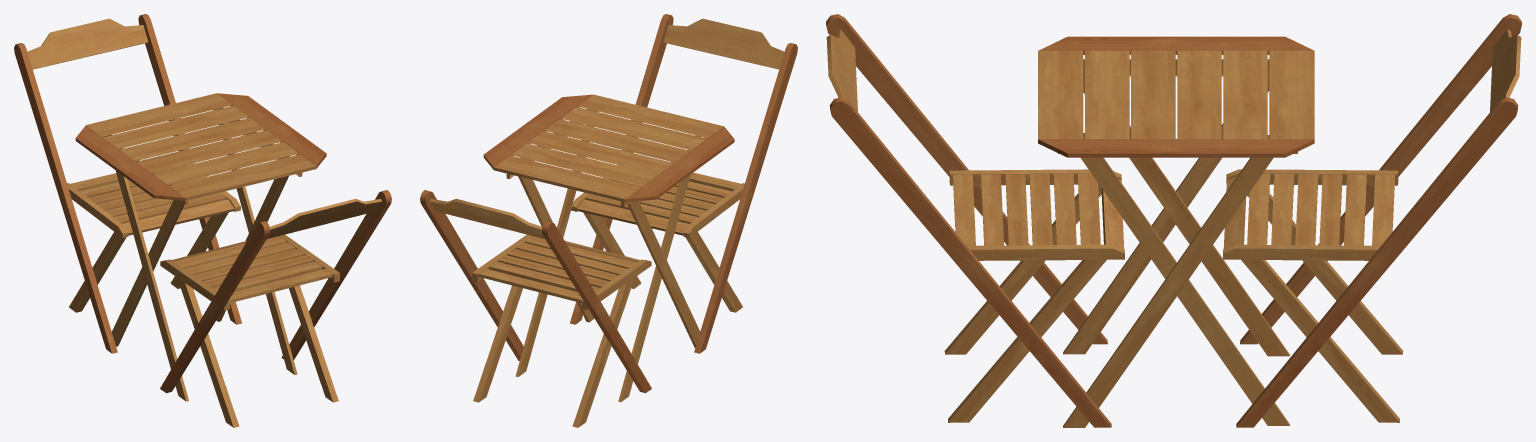
File: Mesa com Cadeiras.FBX
3 renders of one model, left to right at view 1: azimuth 30°, elevation 25°; view 2: azimuth 150°, elevation 25°; view 3: azimuth 270°, elevation 25°, orthographic. The views are drawn at different scales.
Parts seen in each view (by area): view 1: Mesa Pe, Cadeira Poltrona001, Cadeira Poltrona, Cadeira Lateral, Cadeira Lateral001, Mesa Lateral; view 2: Mesa Pe, Cadeira Poltrona, Cadeira Poltrona001, Cadeira Lateral001, Cadeira Lateral, Mesa Lateral; view 3: Mesa Pe, Cadeira Poltrona001, Cadeira Poltrona, Cadeira Lateral001, Cadeira Lateral, Mesa Lateral.
Boxes of the visible parts, box(x1,y1,x2,y2) form: Mesa Pe: box(86, 93, 316, 401); Cadeira Poltrona001: box(160, 198, 381, 427); Cadeira Poltrona: box(27, 18, 240, 312); Cadeira Lateral: box(14, 14, 242, 353); Cadeira Lateral001: box(160, 190, 391, 393); Mesa Lateral: box(75, 93, 326, 200); Mesa Pe: box(494, 94, 723, 402); Cadeira Poltrona: box(430, 198, 651, 427); Cadeira Poltrona001: box(571, 18, 784, 312); Cadeira Lateral001: box(569, 14, 797, 353); Cadeira Lateral: box(420, 190, 651, 393); Mesa Lateral: box(483, 94, 734, 202); Mesa Pe: box(1038, 50, 1314, 427); Cadeira Poltrona001: box(826, 29, 1124, 422); Cadeira Poltrona: box(1223, 29, 1521, 422); Cadeira Lateral001: box(826, 14, 1111, 427); Cadeira Lateral: box(1236, 14, 1521, 427); Mesa Lateral: box(1038, 36, 1314, 157).
Size of the model in its own units: 60 by 80.67 by 151.
